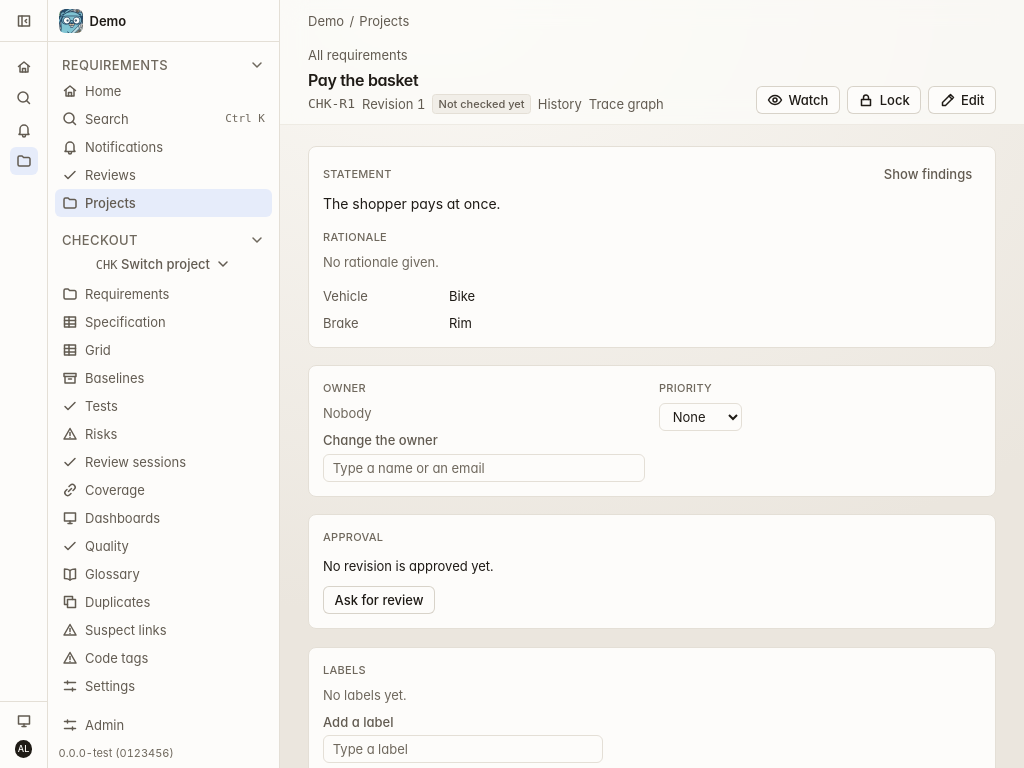
a requirement under field rules › offers a dependent attribute only the choices the other allows, and clears one it no longer allows
The width and height of the screenshot is (1024, 768).
Click the button "Edit" at (962, 100), box [928,86,996,114]
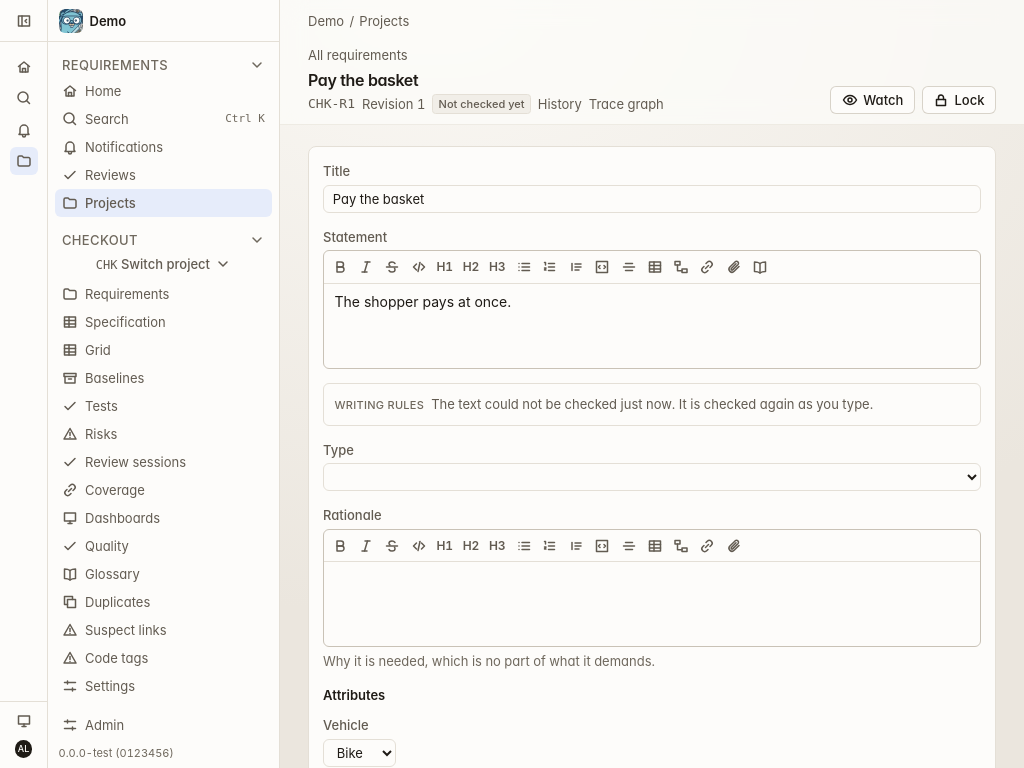
Select "Car" in the dropdown labelled "Vehicle" at (359, 753), box [323,739,396,767]
(page scrolled)
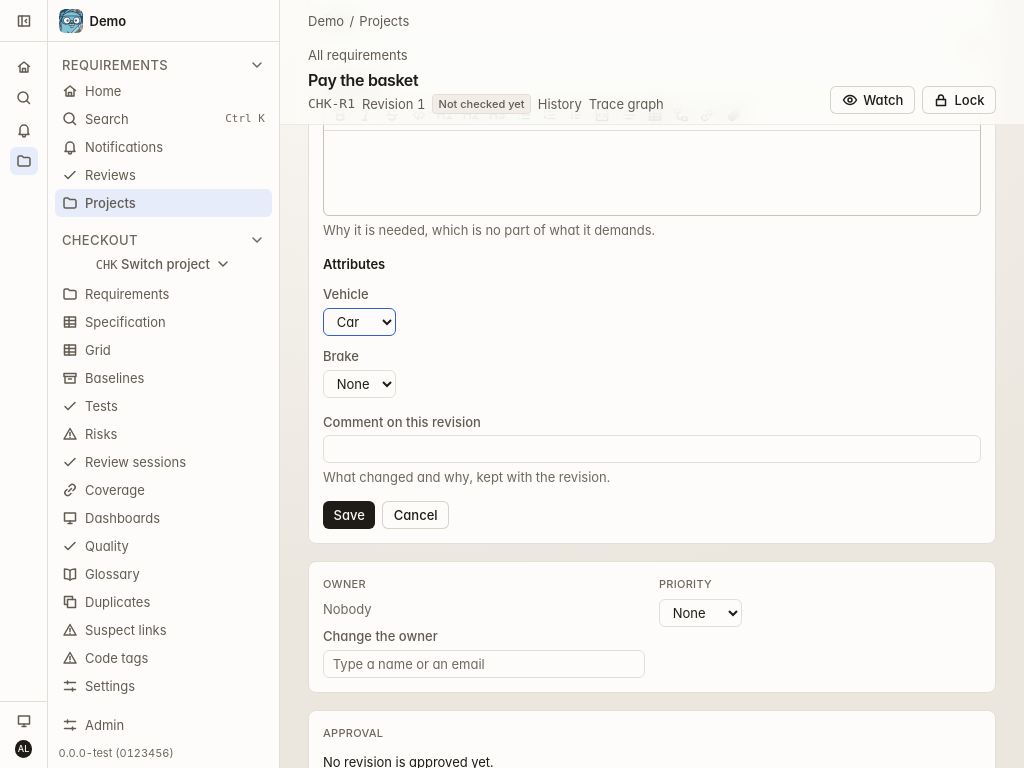
Result: the dropdown labelled "Brake" shows "None" at [323,370,396,398]
